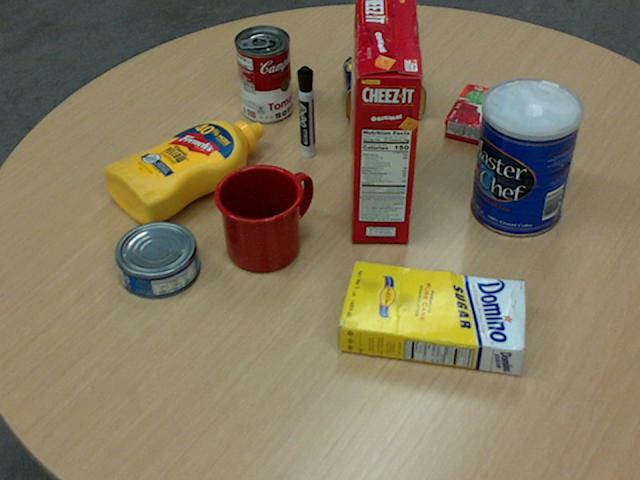cracker_box: (346, 0, 420, 242)
gelatin_box: (443, 82, 521, 148)
large_marker: (296, 65, 313, 157)
master_chef_can: (470, 78, 581, 238)
mug: (212, 163, 311, 272)
mustard_bottle: (103, 119, 263, 224)
potted_meat_can: (342, 51, 426, 123)
sugar_box: (336, 262, 527, 376)
tomato_soup_can: (234, 23, 291, 121)
tuna_fish_can: (113, 220, 198, 298)
